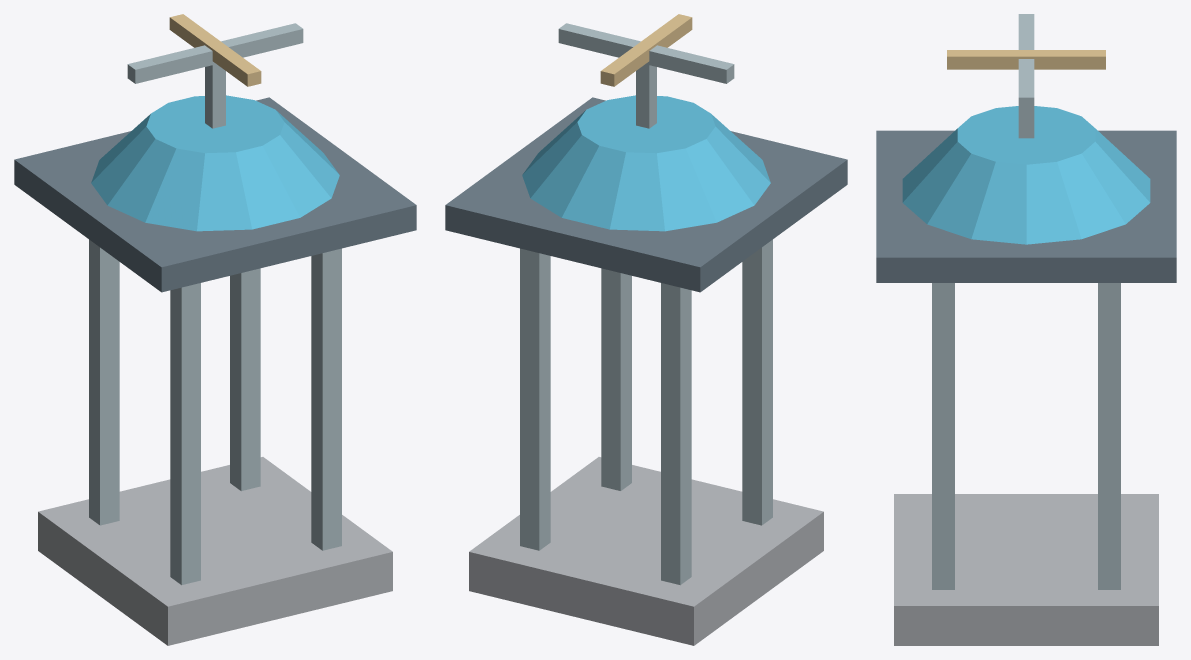
The model's file is rts-radar-tower.gltf.
3 views of the same model, side by side, from view 1: azimuth 30°, elevation 25°; view 2: azimuth 150°, elevation 25°; view 3: azimuth 270°, elevation 25° (orthographic).
Parts seen in each view (by area): view 1: Mesh 0, Mesh 6, Mesh 5, Mesh 4, Mesh 2, Mesh 1, Mesh 3, Mesh 8, Mesh 9, Mesh 7; view 2: Mesh 0, Mesh 6, Mesh 5, Mesh 3, Mesh 1, Mesh 2, Mesh 4, Mesh 8, Mesh 9, Mesh 7; view 3: Mesh 0, Mesh 6, Mesh 5, Mesh 3, Mesh 4, Mesh 9, Mesh 8, Mesh 7.
Boxes of the visible parts, x1,y1,x2,y2 form: Mesh 0: [38, 457, 392, 645]; Mesh 6: [91, 95, 339, 231]; Mesh 5: [14, 97, 416, 292]; Mesh 4: [311, 248, 341, 550]; Mesh 2: [170, 283, 200, 585]; Mesh 1: [89, 239, 119, 525]; Mesh 3: [230, 268, 260, 490]; Mesh 8: [127, 23, 303, 83]; Mesh 9: [169, 14, 261, 86]; Mesh 7: [205, 61, 225, 128]; Mesh 0: [469, 457, 823, 645]; Mesh 6: [522, 95, 770, 231]; Mesh 5: [445, 97, 847, 292]; Mesh 3: [520, 248, 550, 550]; Mesh 1: [661, 283, 691, 585]; Mesh 2: [742, 239, 772, 525]; Mesh 4: [601, 268, 631, 490]; Mesh 8: [558, 23, 734, 83]; Mesh 9: [600, 14, 692, 86]; Mesh 7: [636, 62, 656, 128]; Mesh 0: [894, 494, 1158, 645]; Mesh 6: [902, 106, 1150, 244]; Mesh 5: [876, 130, 1176, 282]; Mesh 3: [1098, 283, 1120, 589]; Mesh 4: [932, 283, 954, 589]; Mesh 9: [947, 50, 1105, 69]; Mesh 8: [1018, 14, 1034, 111]; Mesh 7: [1018, 112, 1034, 138].
Size of the model in its own units: 1.7 by 3.35 by 1.7.
